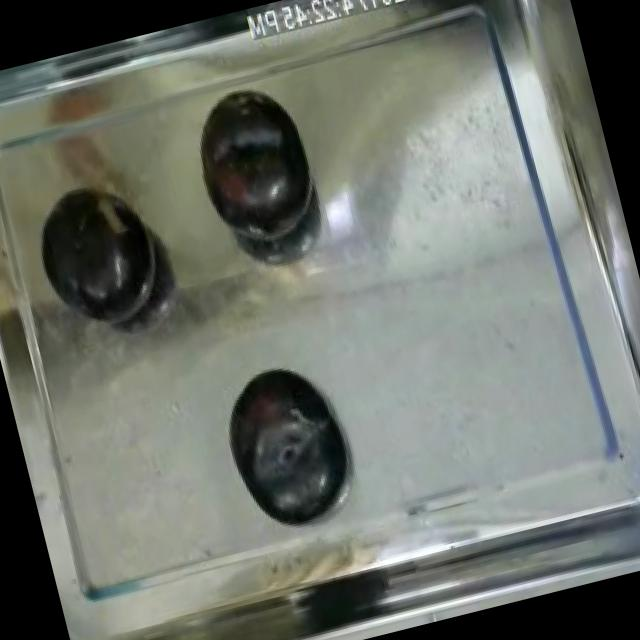Fruit: (208, 344, 366, 537), (184, 76, 328, 248), (18, 172, 156, 330)
